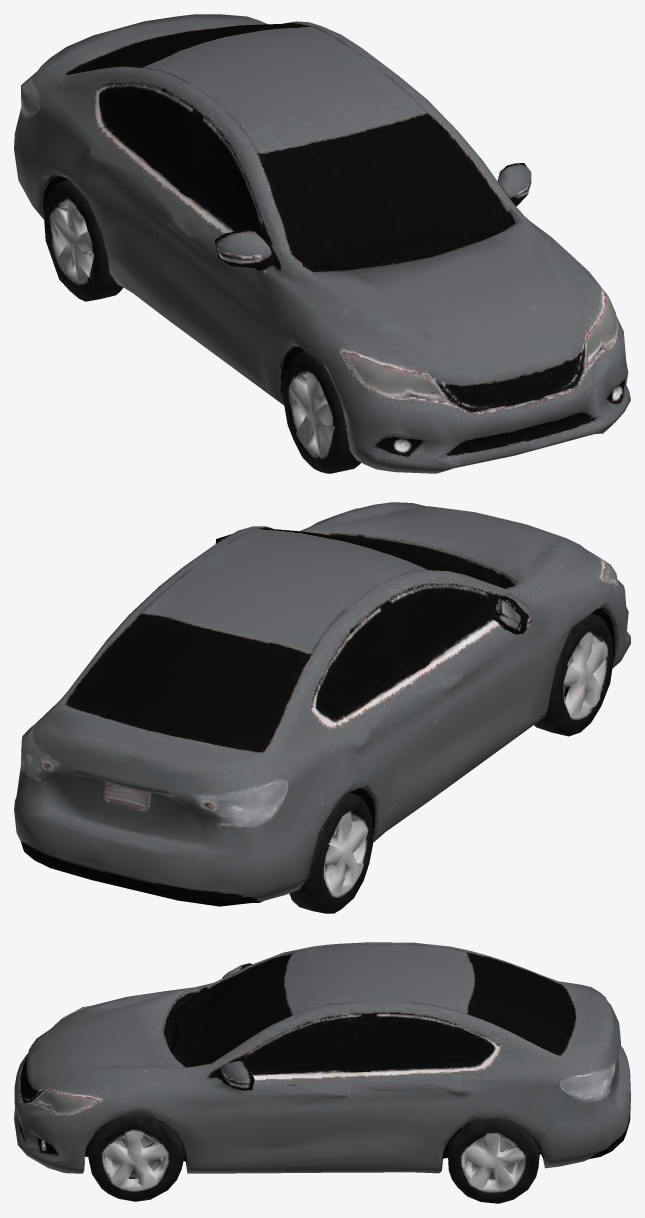
The model's file is sedan_silver.glb.
3 renders of one model, top to bottom at view 1: azimuth 30°, elevation 25°; view 2: azimuth 150°, elevation 25°; view 3: azimuth 270°, elevation 25°, orthographic. The views are drawn at different scales.
Visible parts, largest first — view 1: sedan_silver; view 2: sedan_silver; view 3: sedan_silver.
Boxes of the visible parts, <box> form: sedan_silver: <box>14,14,630,473</box>; sedan_silver: <box>14,502,630,913</box>; sedan_silver: <box>14,942,630,1203</box>.
Size of the model in its own units: 2.1 by 1.62 by 4.82.
Materials: 1 (1 with a texture image).
